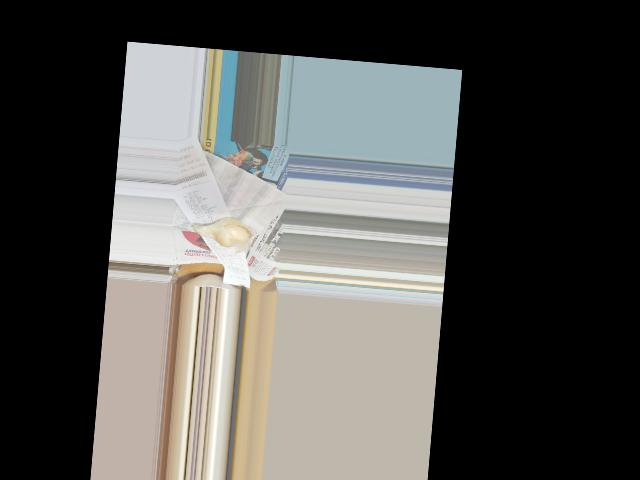onion: (195, 212, 251, 247)
